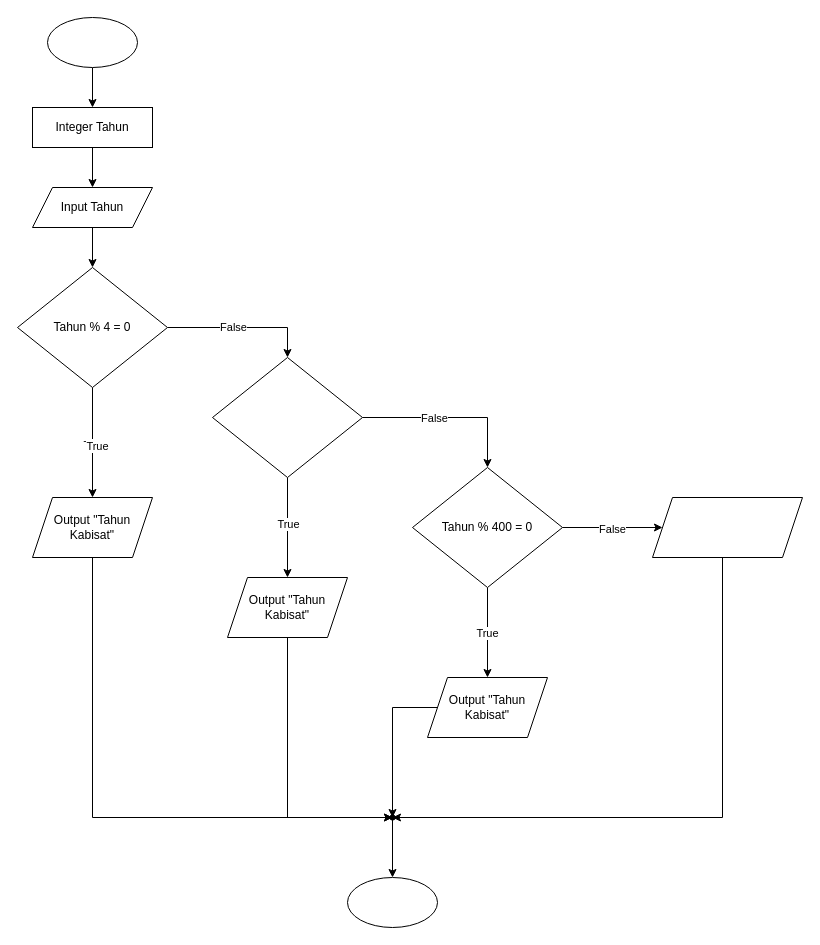
The diagram is 820 pixels wide and 945 high, and some of its shapes have lost their labels. Here are the shapes that lost their labels. From the top down, the box of each, then its label:
(46, 16, 138, 68): Start
(212, 356, 362, 478): Tahun % 100 = 0
(652, 496, 802, 558): Output "Bukan Tahun Kabisat"
(346, 876, 438, 928): End
